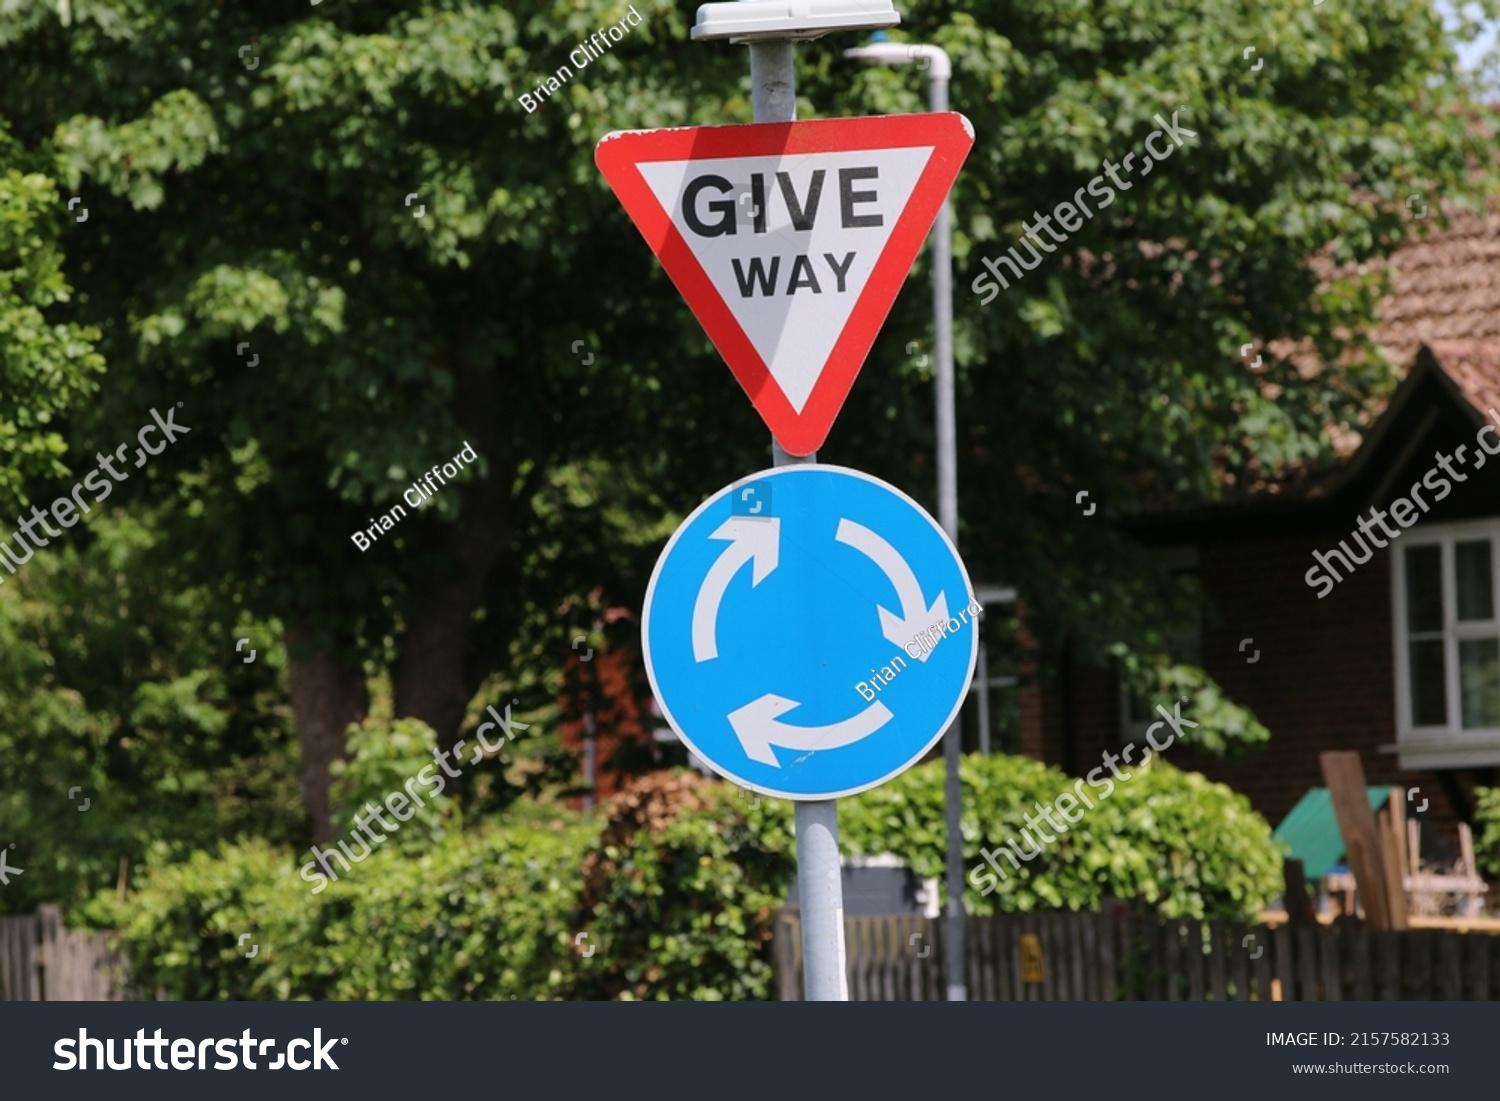Give Way: (613, 93, 977, 450)
